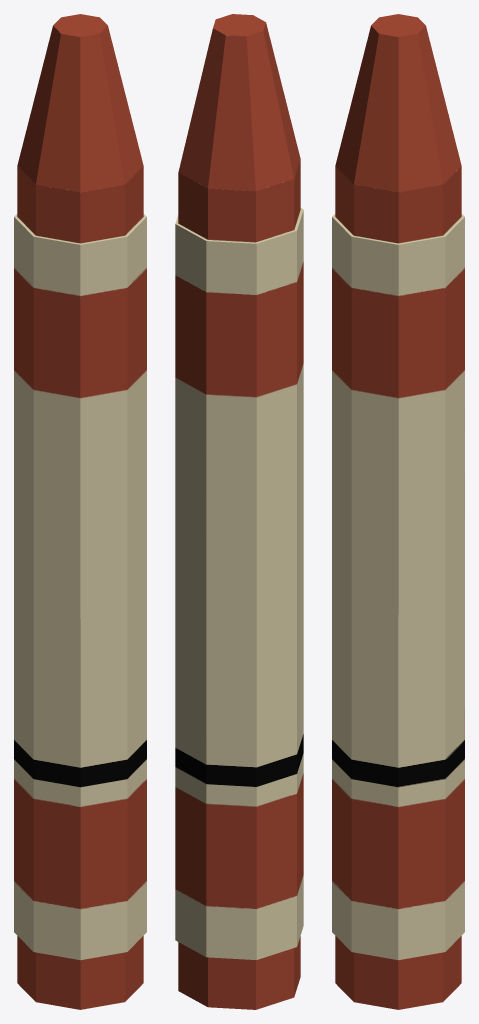
Rendered from CrayonRed.fbx.
The picture shows the model from 3 angles, left to right: view 1: azimuth 90°, elevation 25°; view 2: azimuth 150°, elevation 25°; view 3: azimuth 270°, elevation 25°; orthographic projection.
Parts seen in each view (by area): view 1: BakeCrayonRed; view 2: BakeCrayonRed; view 3: BakeCrayonRed.
Part boxes in pixels (<box>): BakeCrayonRed: <box>14,14,146,1009</box>; BakeCrayonRed: <box>175,14,303,1009</box>; BakeCrayonRed: <box>332,14,464,1009</box>.
Size of the model in its own units: 89.18 by 710 by 89.18.
